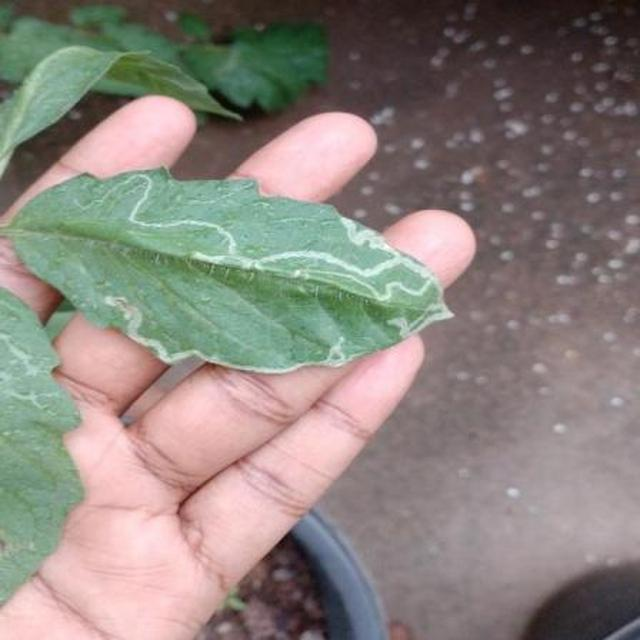Leaf Miner: (14, 231, 640, 538)
